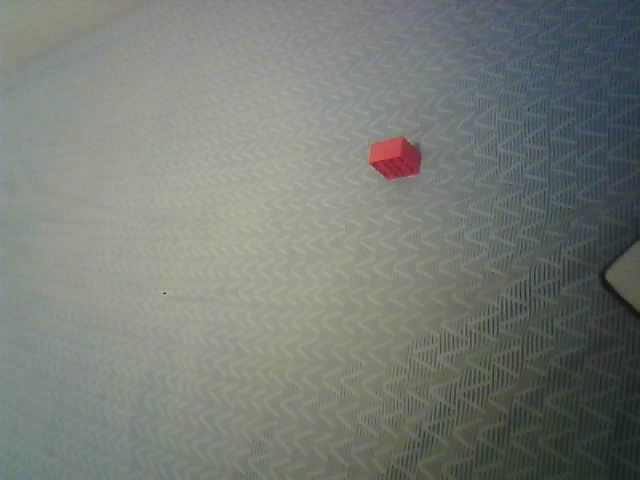lego: (367, 136, 421, 181)
